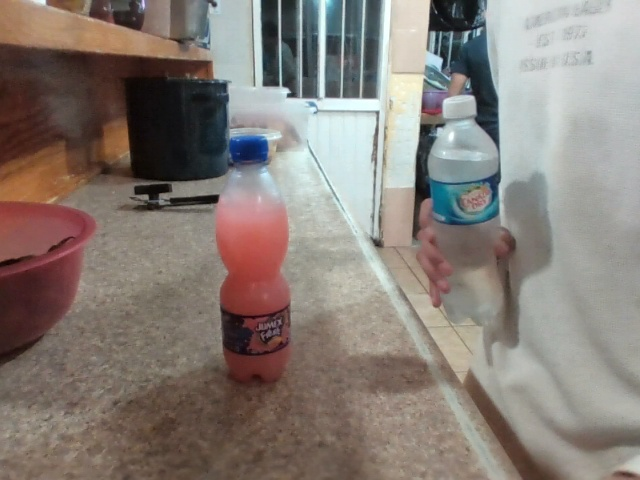botella: (179, 120, 334, 411), (389, 71, 535, 337)
